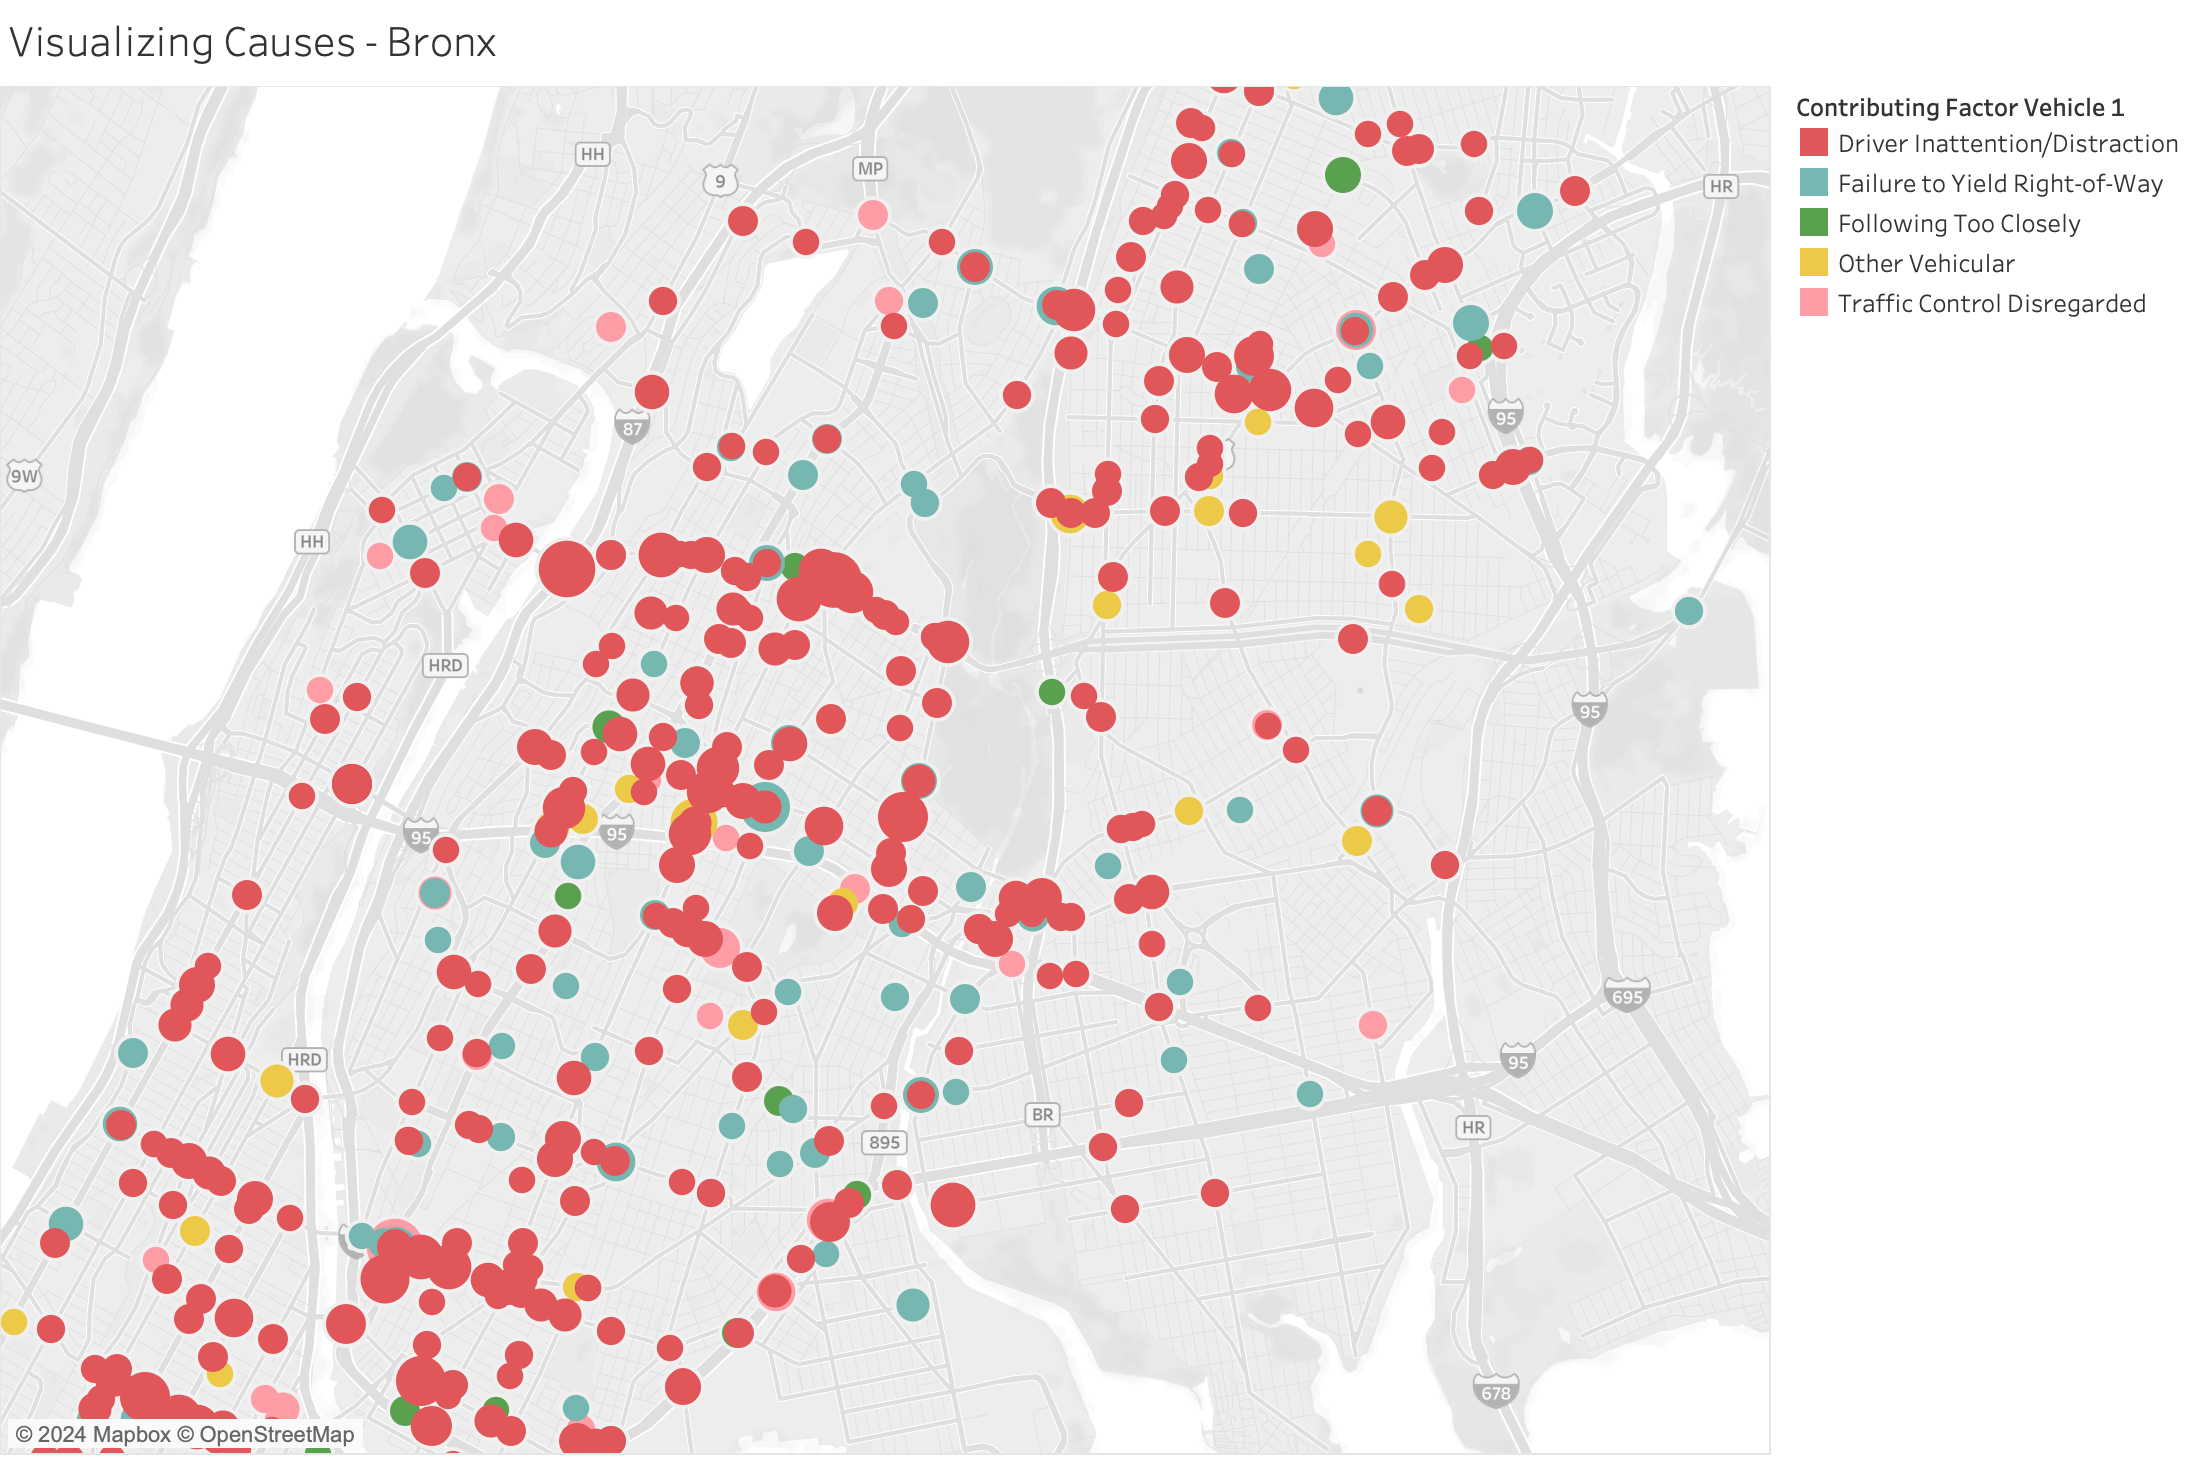

The dashboard page shown, as its layout file describes it:
{"tool":"tableau","page":{"name":"Dashboard 1","canvas":[1000,1000],"units":"permille","ordinal":0},"visuals":[{"type":"worksheet","title":"Sheet 1","mark":"Automatic","rows":["LATITUDE"],"cols":["LONGITUDE"],"box":[6.5,11.4,856.8,977.2]},{"type":"legend","title":"Sheet 1","param":"[federated.1myyyvv1h2nzx114ohmcz0o926mb].[sum:NUMBER OF PERSONS INJURED:qk]","box":[863.3,11.4,130.2,92.6]}]}

Visuals, with their boxes on the dashboard's canvas, which has no fixed pixel size, in thousandths of its width and height (x1, y1, x2, y2). These are canvas units, not pixel positions in the 2188x1459 screenshot, which may show the page scaled, cropped or inside an application window:
"Sheet 1" worksheet: [6, 11, 863, 989]
"Sheet 1" legend: [863, 11, 994, 104]
